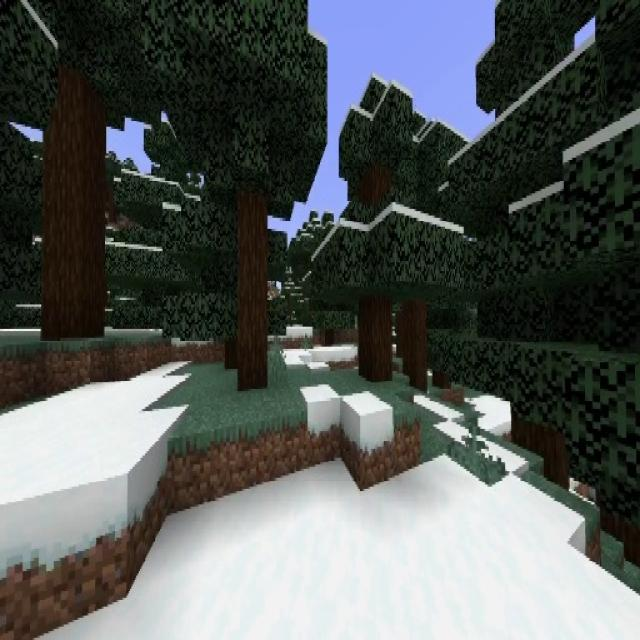spruce: (440, 0, 632, 503), (145, 5, 331, 401), (0, 0, 154, 332), (309, 77, 453, 381), (371, 118, 467, 392), (116, 121, 192, 347)
spruce_log: (44, 76, 102, 337), (239, 197, 267, 391), (515, 410, 564, 488), (357, 296, 393, 386), (404, 303, 428, 392)
